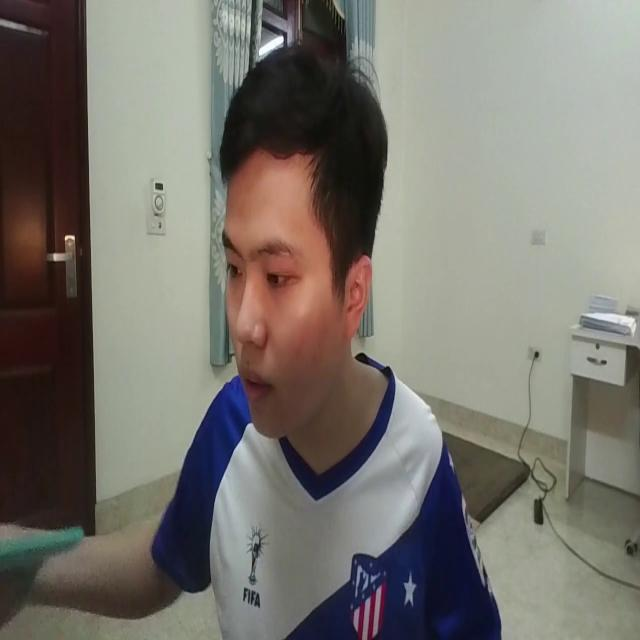book: (0, 480, 84, 601)
student: (116, 48, 508, 640)
